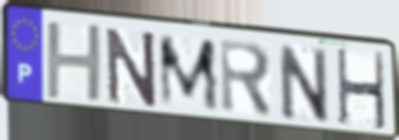H: (44, 20, 106, 104), (334, 47, 389, 134)
M: (155, 34, 222, 113)
N: (103, 25, 160, 109), (276, 41, 332, 124)
R: (217, 36, 275, 121)
